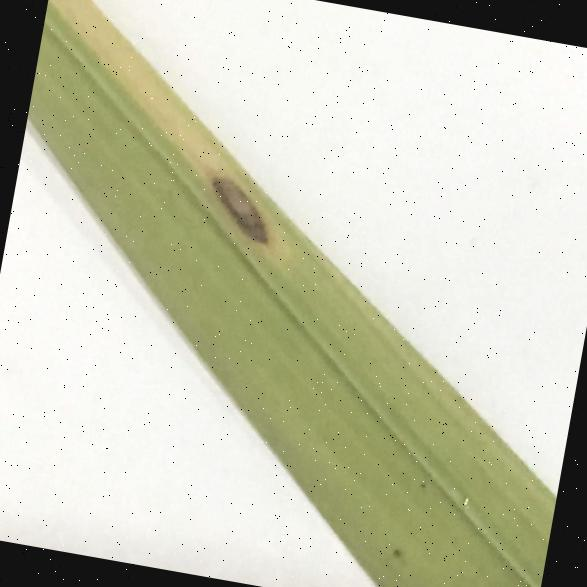Leaf_smut: (191, 154, 294, 264)
